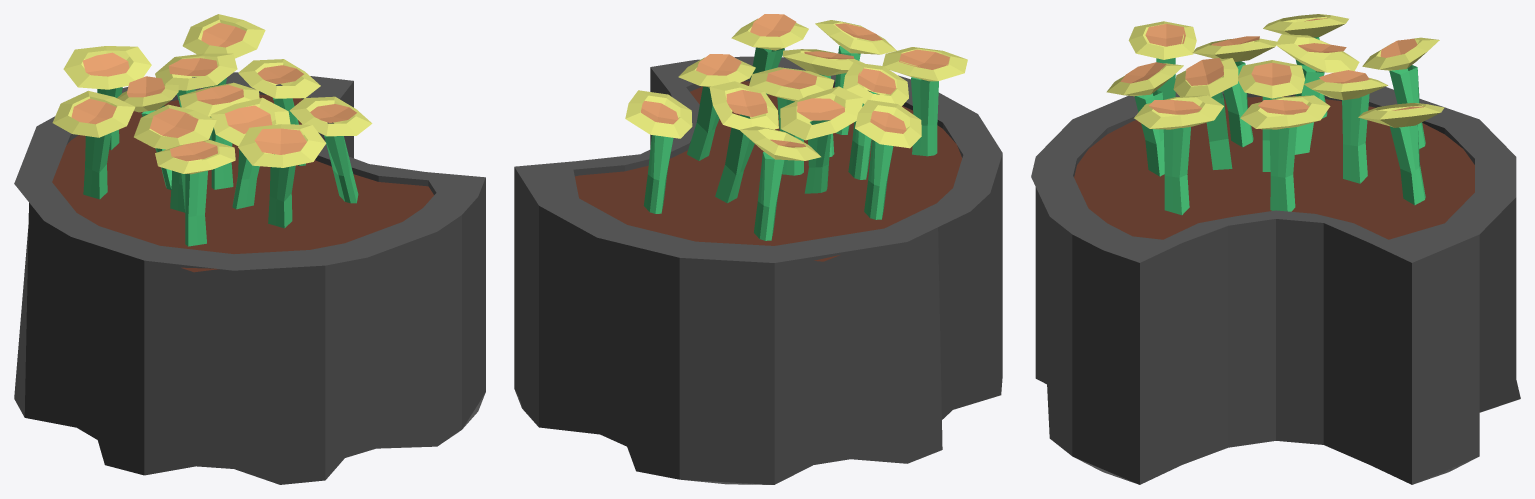
File: FlowerBed.fbx
The picture shows the model from 3 angles, left to right: view 1: azimuth 30°, elevation 25°; view 2: azimuth 150°, elevation 25°; view 3: azimuth 270°, elevation 25°; orthographic projection. The views are drawn at different scales.
Parts seen in each view (by area): view 1: Concrete.001, Ground, Petals1.002, Petals1.001, Petals1.004, Petals1.003, Petals3.002, Stem.001, Petals2, Petals3.003, Petals3.001, Stem1.004 (+20 smaller); view 2: Concrete.001, Ground, Petals3, Petals1.004, Petals1.003, Stem.001, Stem1.002, Petals3.001, Stem1.003, Stem3.001, Stem1.004, Petals.001 (+21 smaller); view 3: Concrete.001, Ground, Stem3.003, Stem3.002, Stem3.001, Stem1.003, Petals3.002, Petals3.003, Petals3, Petals.001, Petals, Petals1.003 (+17 smaller).
Part boxes in pixels (x1,y1,x2,y2): Concrete.001: (14, 72, 485, 484); Ground: (52, 94, 433, 272); Petals1.002: (63, 46, 151, 89); Petals1.001: (238, 124, 326, 167); Petals1.004: (52, 90, 135, 137); Petals1.003: (182, 14, 265, 58); Petals3.002: (238, 59, 320, 98); Stem.001: (181, 170, 207, 246); Petals2: (134, 104, 216, 149); Petals3.003: (289, 96, 372, 136); Petals3.001: (155, 53, 237, 90); Stem1.004: (83, 132, 111, 199); Concrete.001: (514, 56, 1002, 484); Ground: (575, 81, 962, 261); Petals3: (780, 86, 862, 140); Petals1.004: (855, 100, 921, 148); Petals1.003: (625, 90, 692, 138); Stem.001: (911, 77, 938, 156); Stem1.002: (754, 152, 784, 240); Petals3.001: (709, 81, 778, 129); Stem1.003: (643, 135, 673, 213); Stem3.001: (715, 127, 754, 203); Stem1.004: (864, 140, 893, 219); Petals.001: (882, 47, 967, 81); Concrete.001: (1031, 87, 1520, 484); Ground: (1074, 96, 1474, 239); Stem3.003: (1163, 127, 1190, 215); Stem3.002: (1269, 127, 1296, 211); Stem3.001: (1342, 94, 1369, 183); Stem1.003: (1389, 124, 1425, 205); Petals3.002: (1240, 95, 1330, 129); Petals3.003: (1134, 95, 1223, 129); Petals3: (1275, 34, 1359, 72); Petals.001: (1128, 21, 1196, 59); Petals: (1238, 60, 1304, 98); Petals1.003: (1358, 103, 1444, 127).
Bounding box in the file's own units: 183 × 142 × 200.
